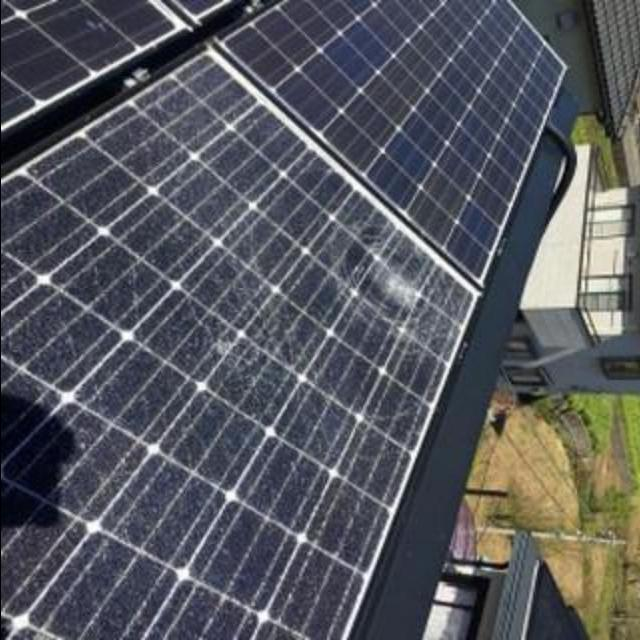cracked: (2, 90, 474, 640)
